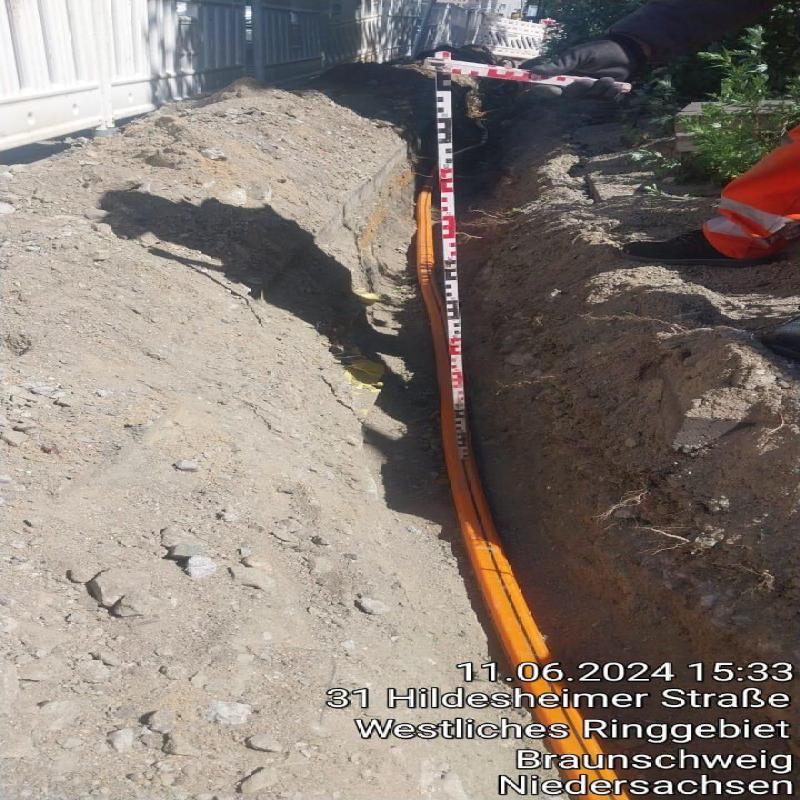Orang-Speednetrohrchen: (416, 225, 550, 664)
